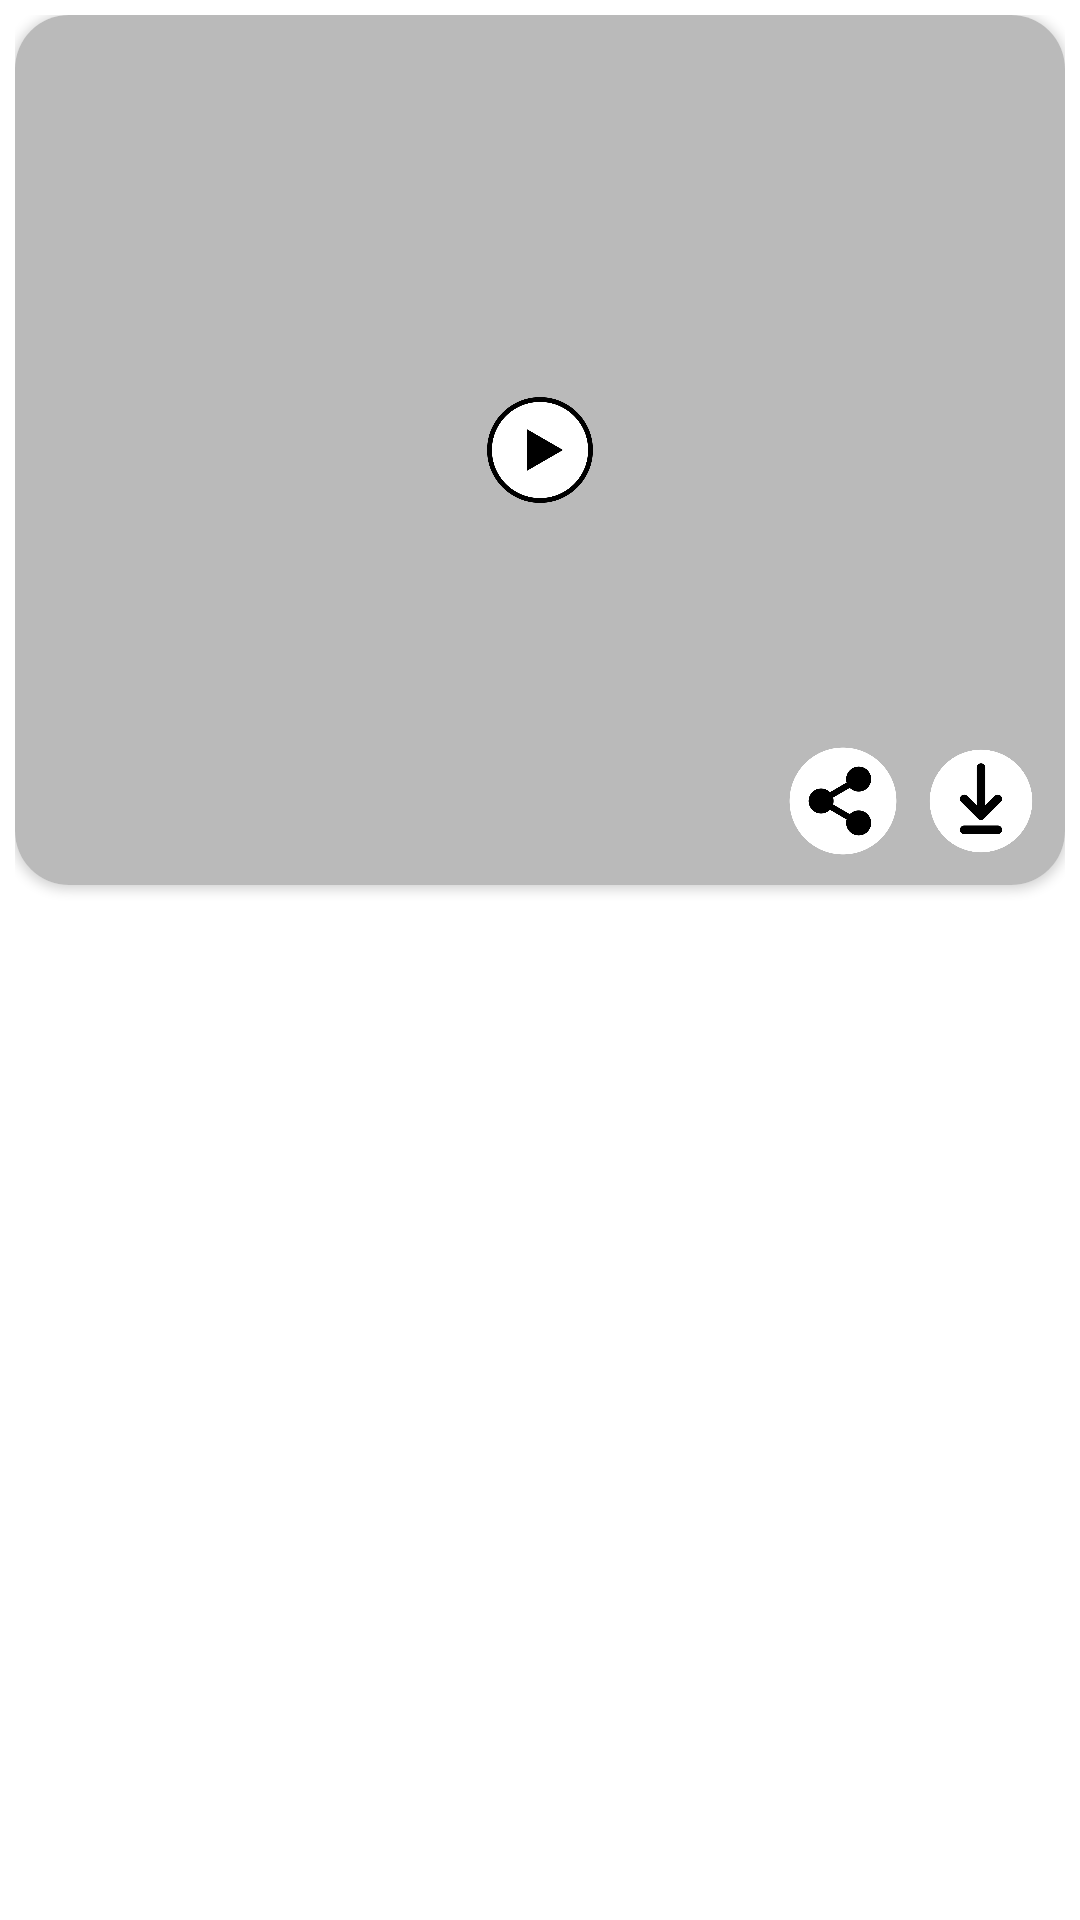

Where to tap for icons on this 1080×1920 app screen, as point (x, y):
play: point (540, 450)
sharing: point (843, 801)
statussave: point (981, 801)
